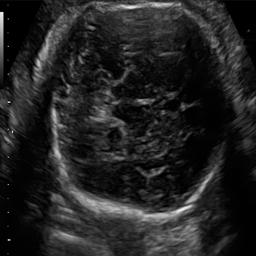normal: (46, 1, 236, 222)
